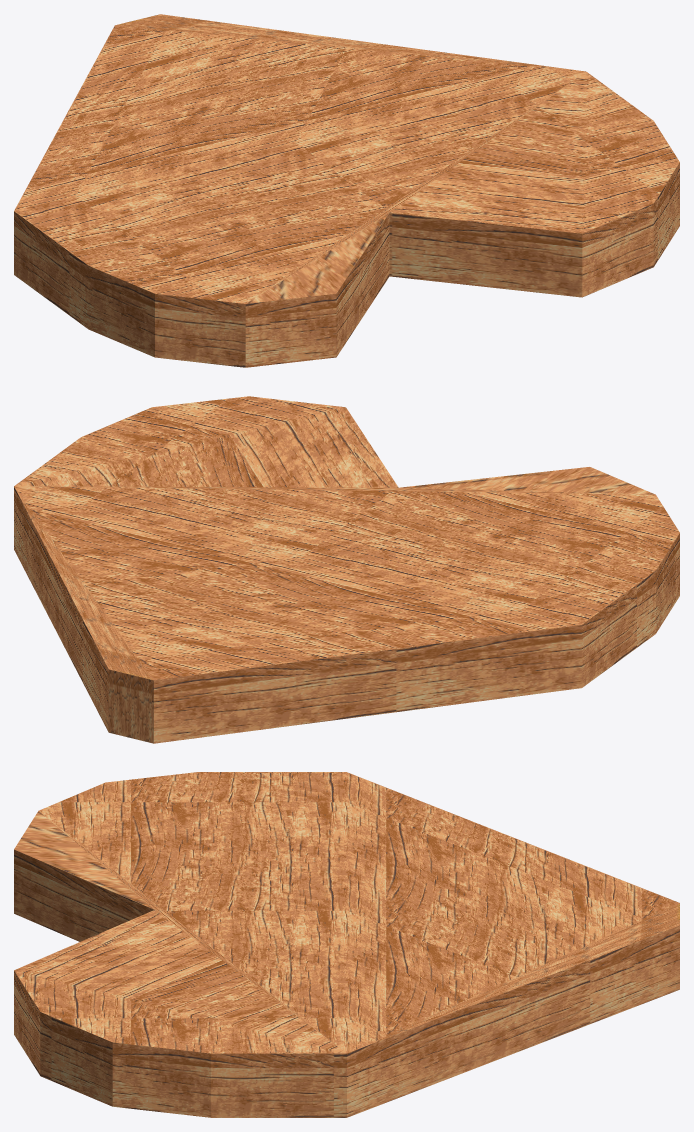
Rendered from detail_five.fbx.
The picture shows the model from 3 angles, top to bottom: view 1: azimuth 30°, elevation 25°; view 2: azimuth 150°, elevation 25°; view 3: azimuth 270°, elevation 25°; orthographic projection.
Parts seen in each view (by area): view 1: detail; view 2: detail; view 3: detail.
Boxes of the visible parts, box(x1,y1,x2,y2) form: detail: box(14, 14, 679, 367); detail: box(14, 396, 679, 743); detail: box(14, 772, 679, 1117).
Size of the model in its own units: 24.19 by 2.57 by 24.19.
